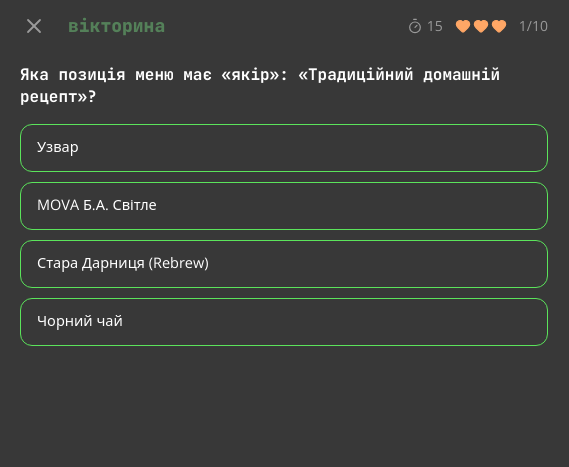
Scenario: quiz › shows timer, lives and progress; a right answer is green and recorded
Expected: the element showing "15" is shown, [407, 16, 443, 36]
Expected: the picture named "життя: 3 з 3" is shown, [455, 18, 507, 34]
What coordinates should you click on to do the following:
click the button "Узвар"
I would click on:
 (58, 146)
Its box is [20, 124, 548, 172].
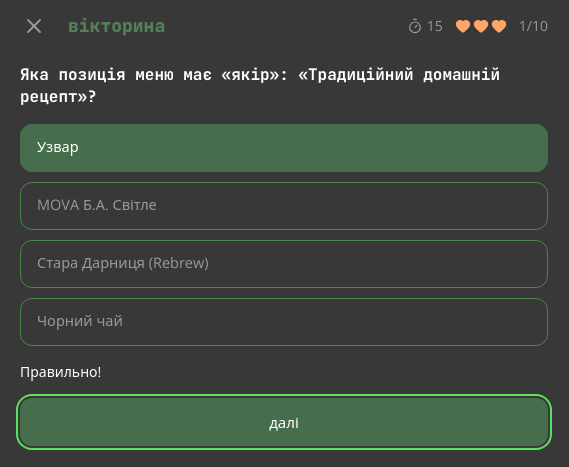
Result: the button named "— правильно" is disabled at [20, 124, 548, 172]
Result: the text "Правильно!" is shown at [20, 362, 101, 381]
